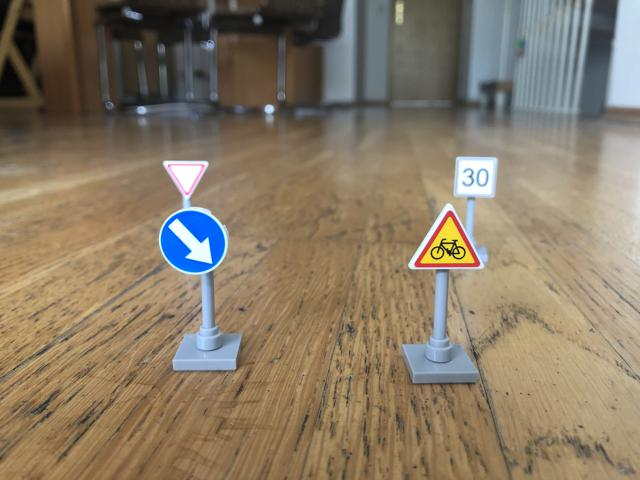fahrtrichtung rechts: (159, 205, 230, 277)
radfahrer: (405, 206, 483, 271)
tempolimit 30: (451, 157, 500, 198)
vorfahrt gewähren: (162, 158, 210, 198)
